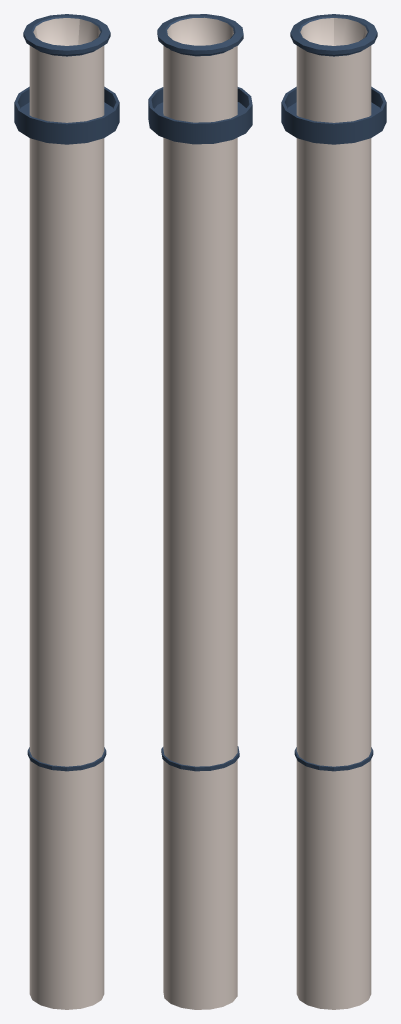
The model's file is chimney_01.fbx.
3 renders of one model, left to right at view 1: azimuth 90°, elevation 25°; view 2: azimuth 150°, elevation 25°; view 3: azimuth 270°, elevation 25°, orthographic.
Parts seen in each view (by area): view 1: chimney_01; view 2: chimney_01; view 3: chimney_01.
Boxes of the visible parts, left/top/right/bottom form: chimney_01: left=14, top=14, right=119, bottom=1009; chimney_01: left=148, top=14, right=252, bottom=1009; chimney_01: left=281, top=14, right=386, bottom=1009.
Bounding box in the file's own units: 199 × 2017 × 199.
